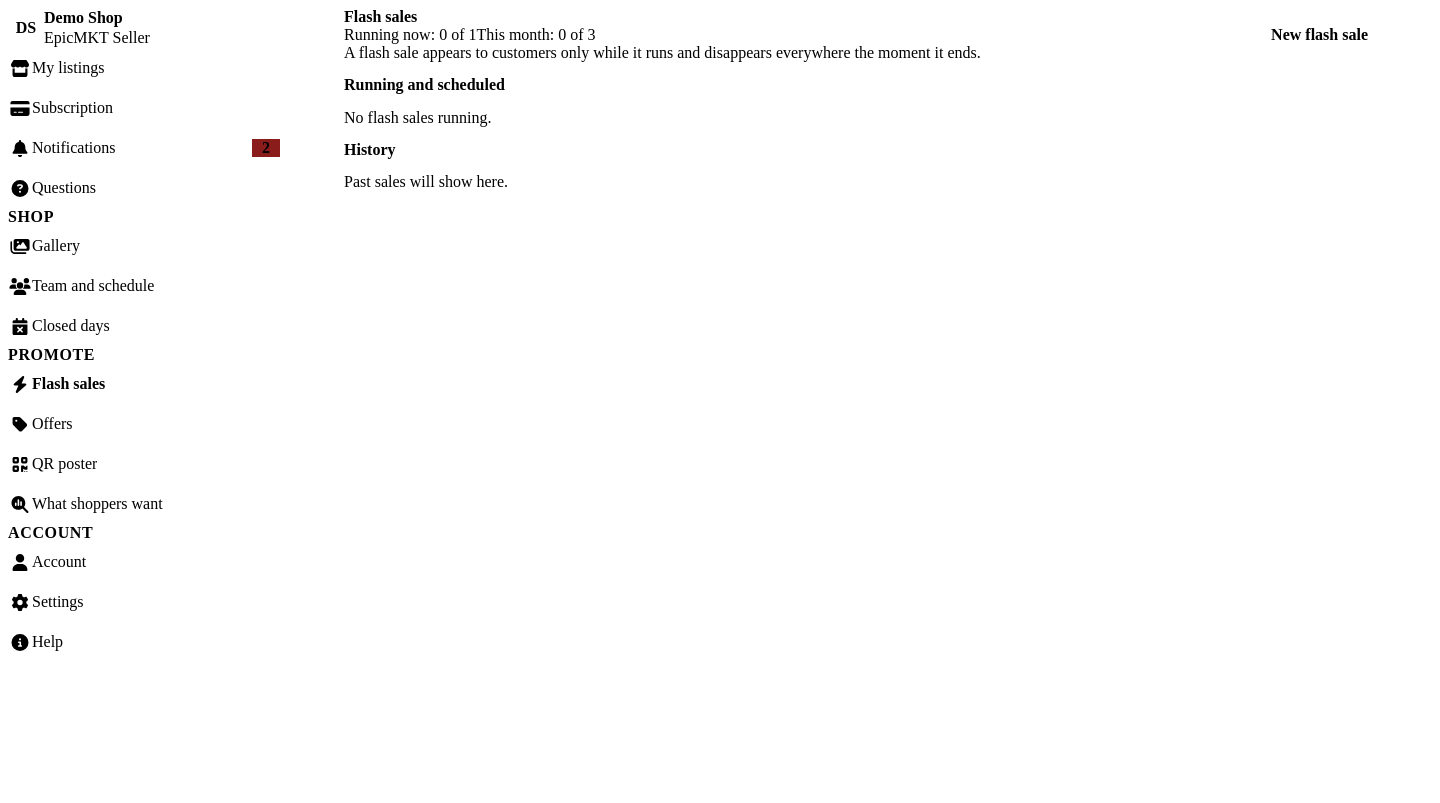
Scenario: seller flash sales › schedules a sale for later and it shows as scheduled, not live
Click the button "New flash sale".
click(1320, 35)  # box [1271,26,1368,44]
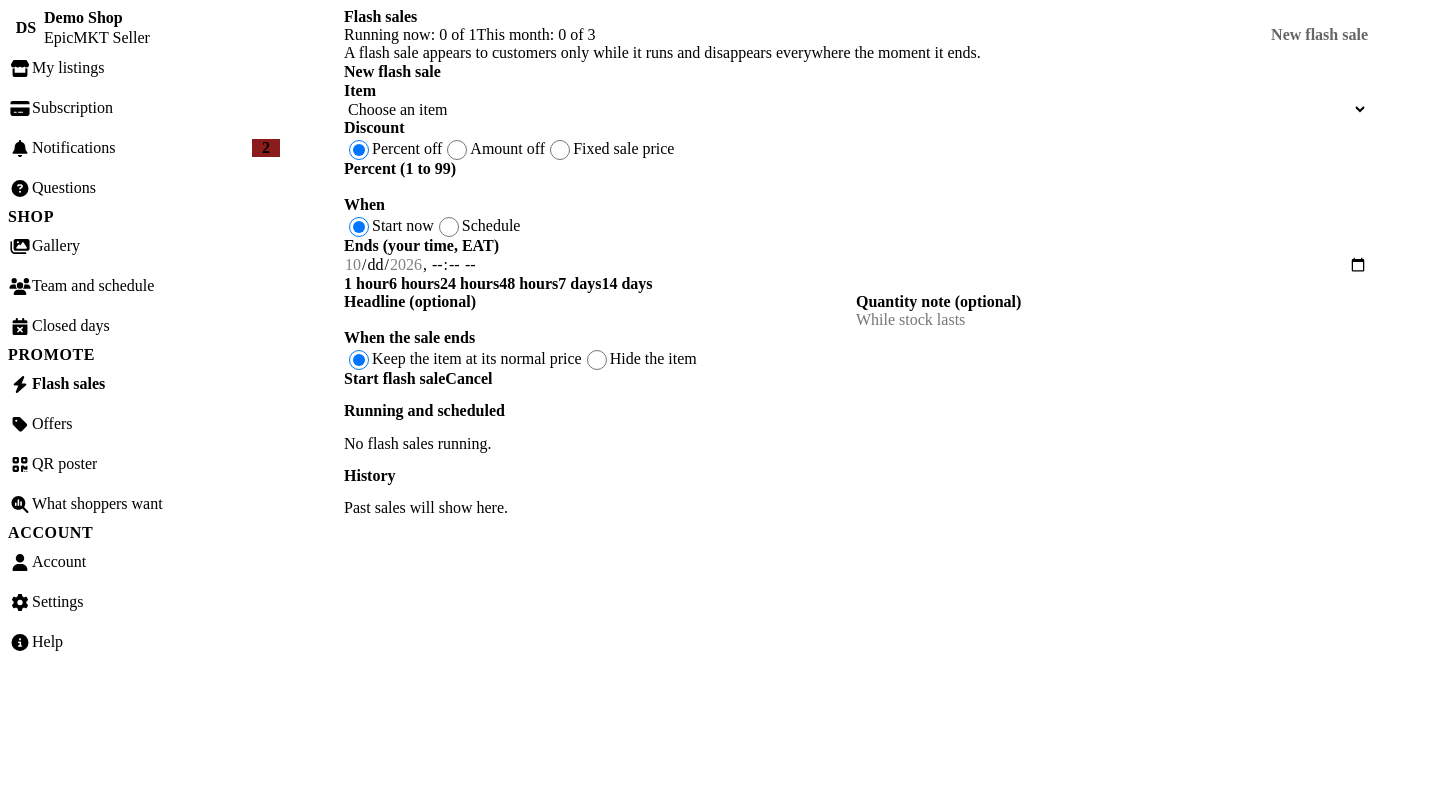
Select "Beard trim (KES 300)" in the dropdown labelled "Item" at [856, 110], box [344,100,1368,119]
Type "50" into the number field labelled "Percent (1 to 99)".
click(856, 187); type("50")  # box [344,178,1368,196]
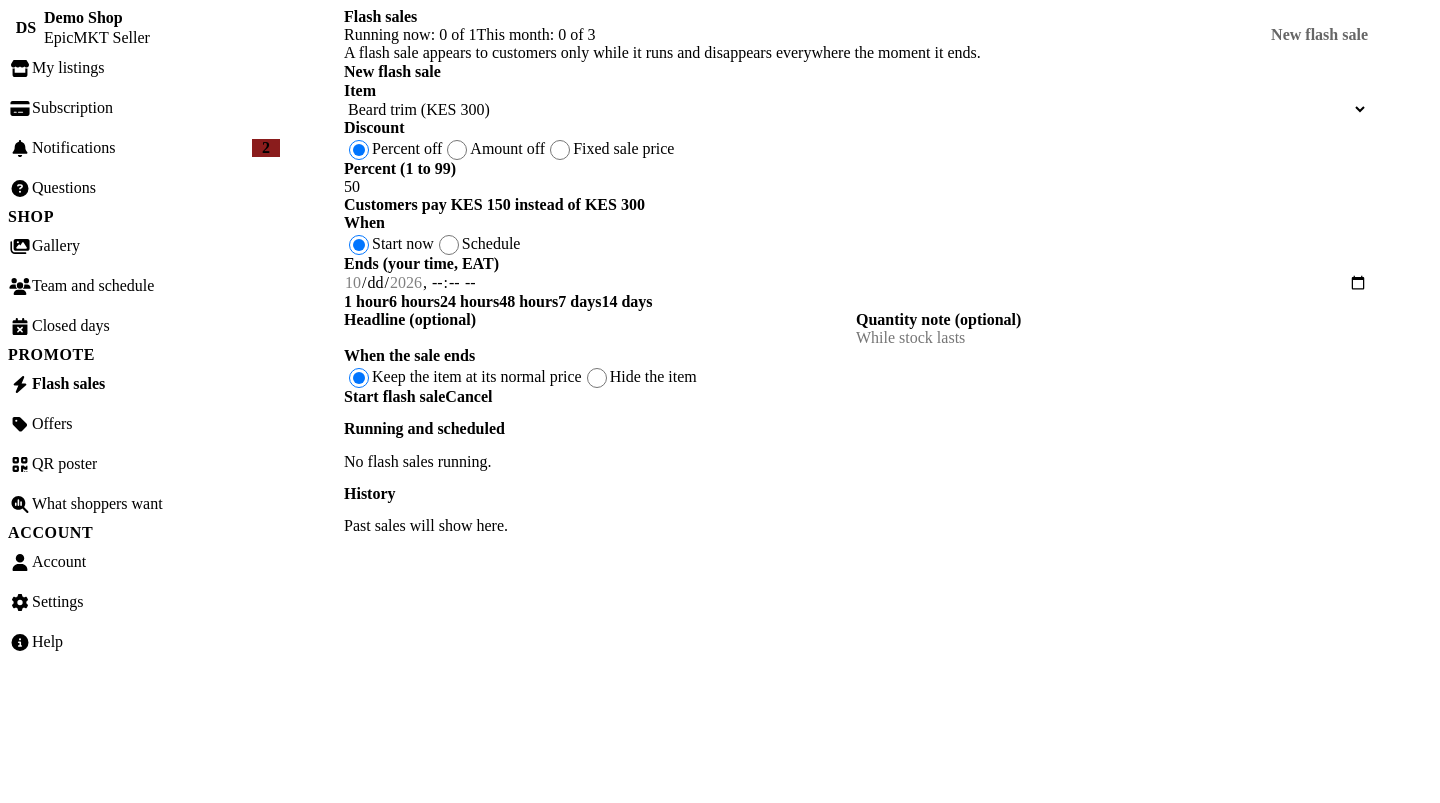
Click the radio button labelled "Schedule".
click(449, 245)  # box [439,235,459,255]
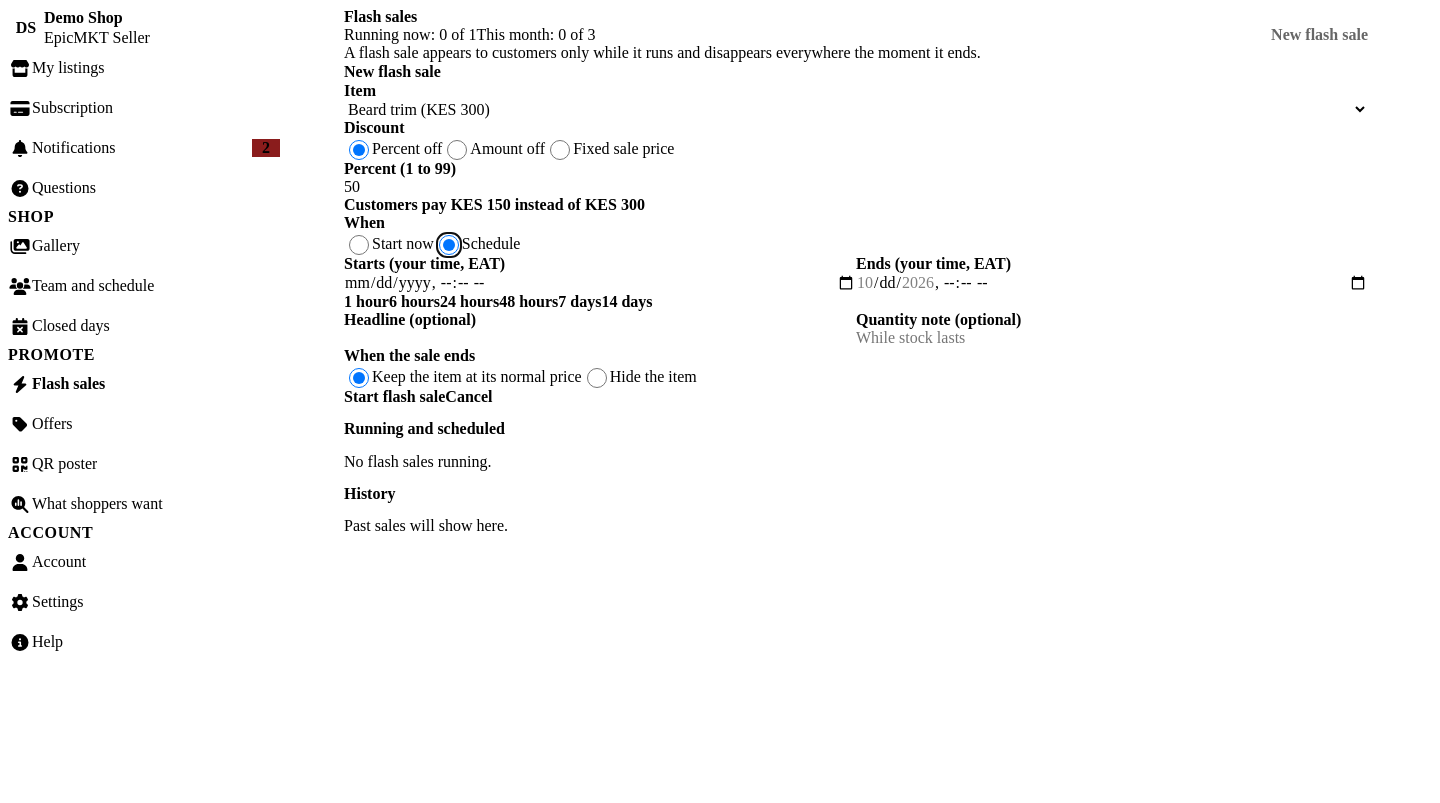
Type "2026-10-18T10:00" into the field labelled "Starts (your time, EAT)".
click(600, 283); type("2026-10-18T10:00")  # box [344,273,856,293]
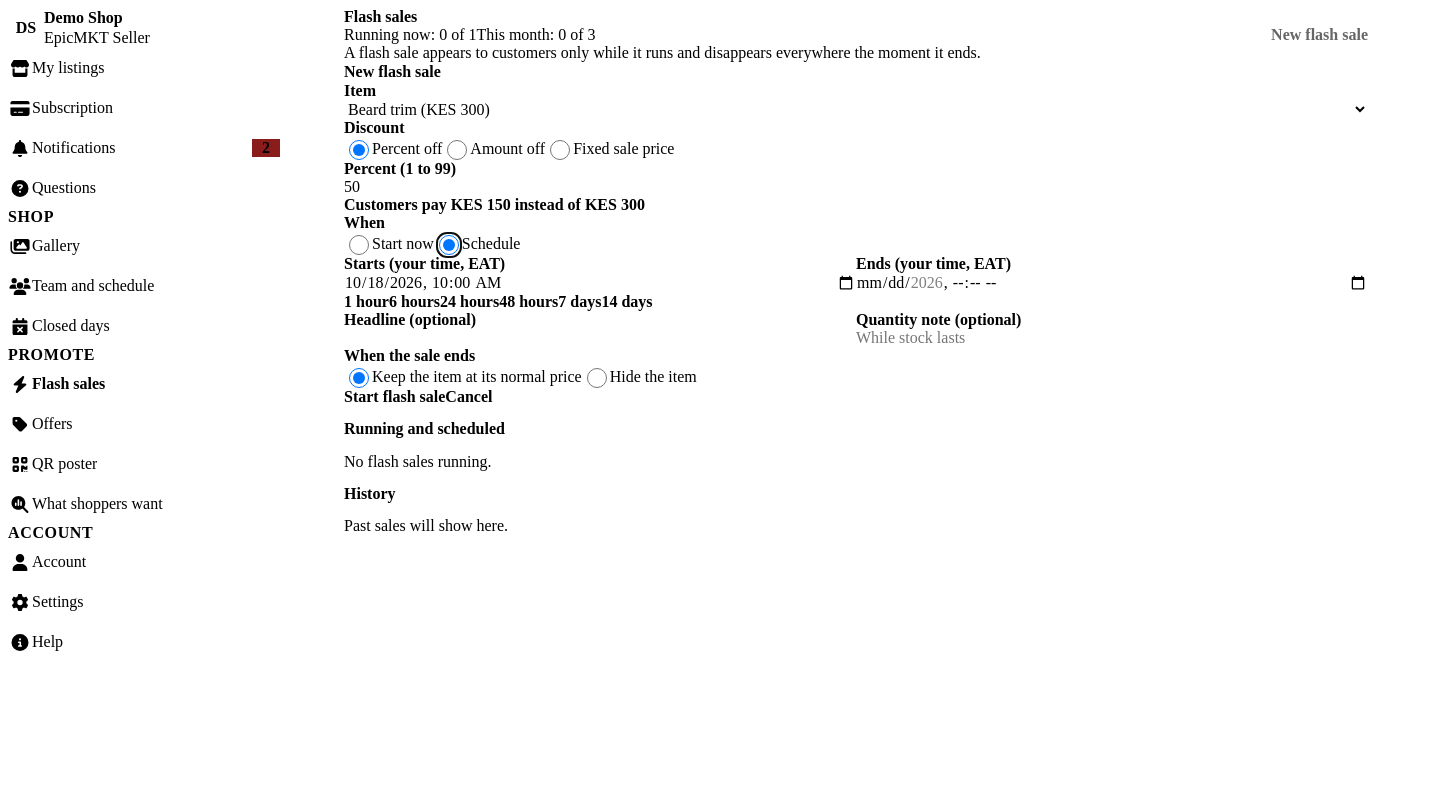
Type "2026-10-18T14:00" into the field labelled "Ends (your time, EAT)".
click(1112, 283); type("2026-10-18T14:00")  # box [856,273,1368,293]
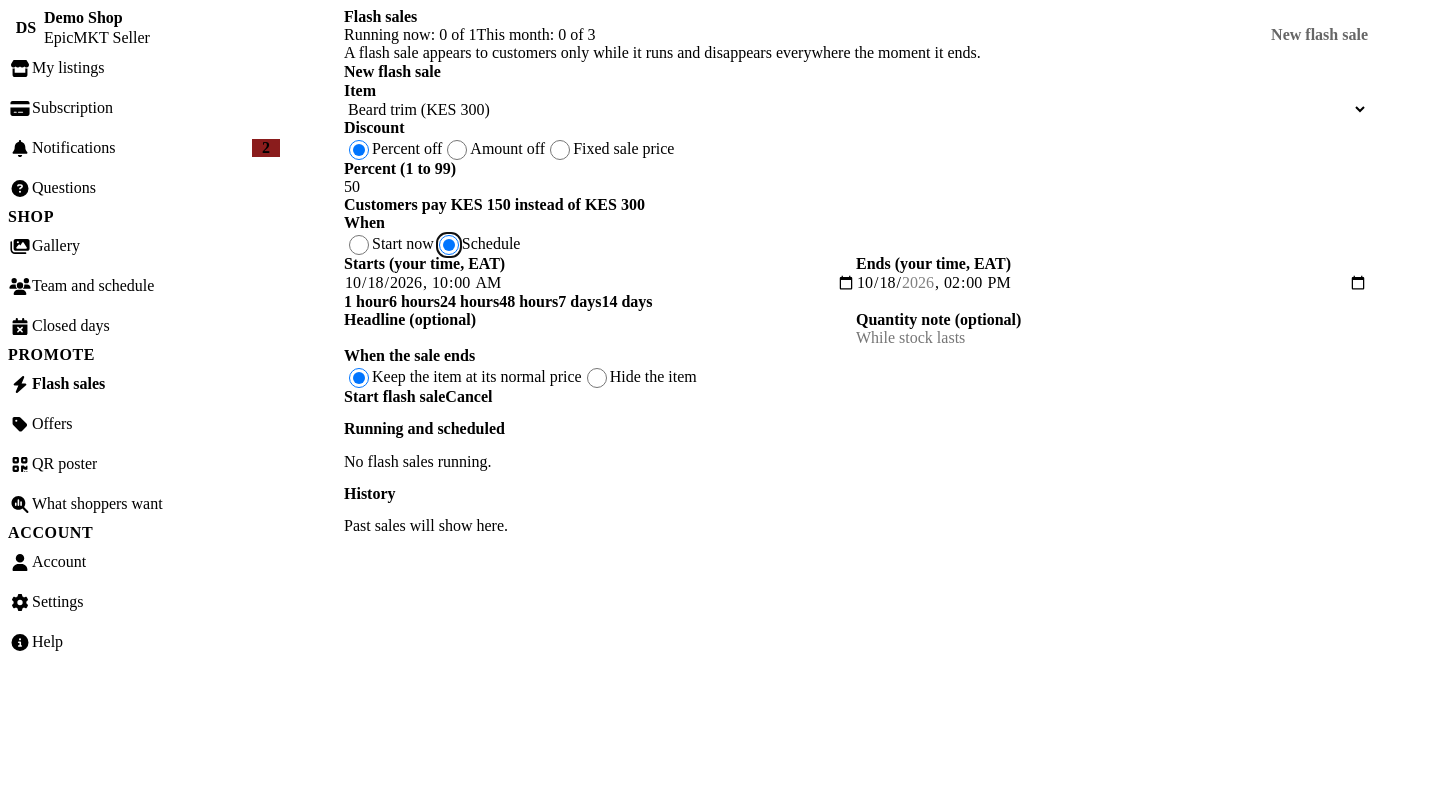
Click the button "Start flash sale".
click(395, 397)  # box [344,388,445,406]
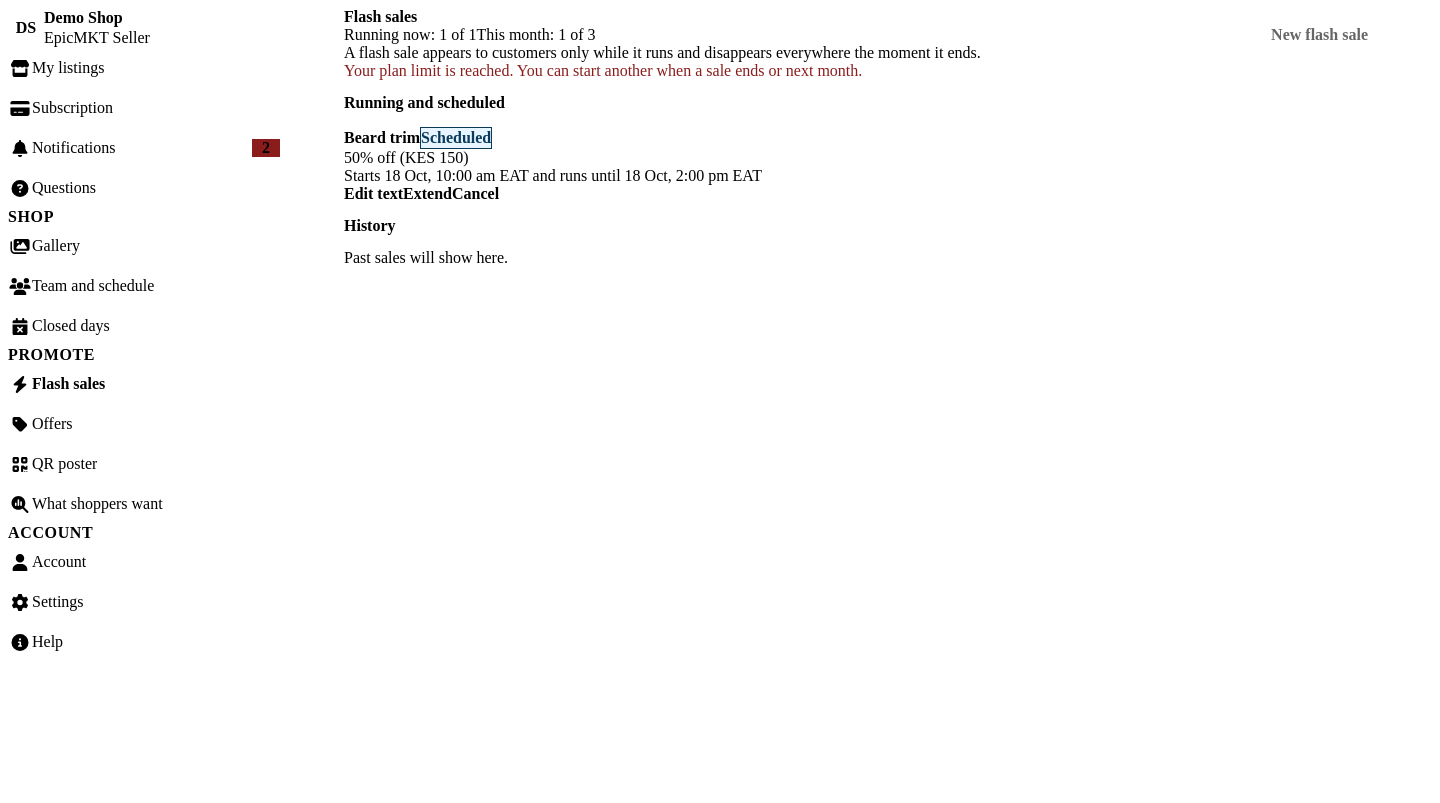
Check: the list item with test id "flash-sale" does not show "Ends in", box [344,126,762,202]
Check: the number of list items with test id "flash-sale" is 1, box [344,126,762,202]
Check: the list item with test id "flash-sale" shows "Scheduled", box [421,128,491,146]
